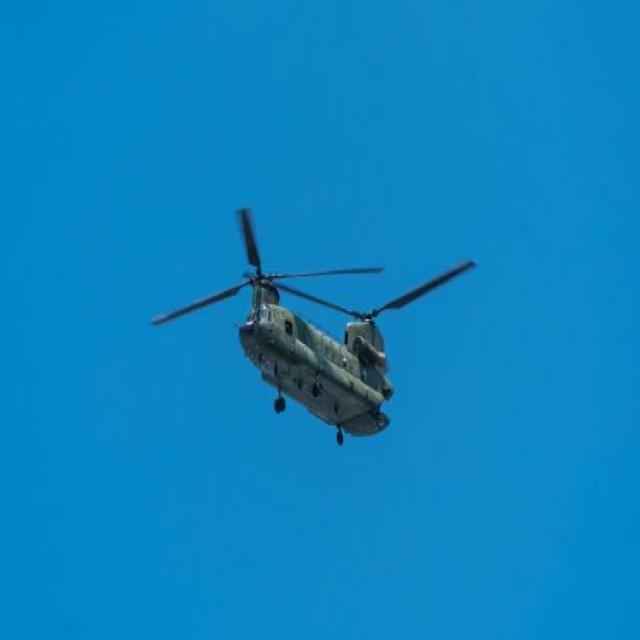Helicopter: (189, 214, 422, 458)
